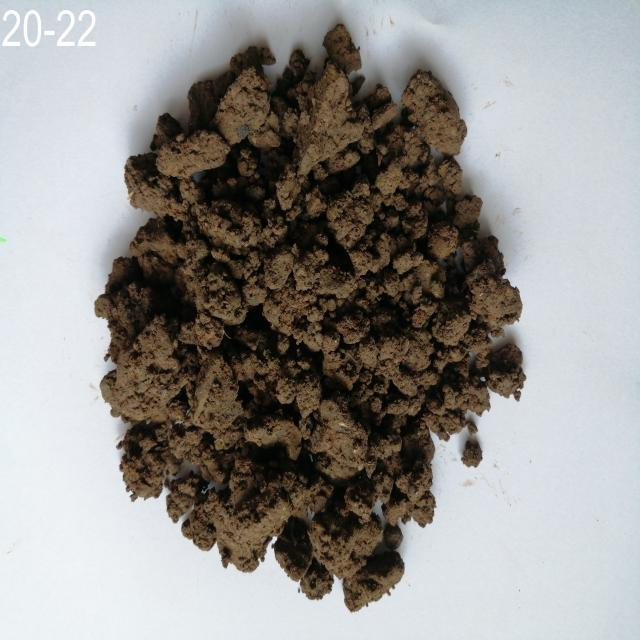soil: (168, 142, 429, 492)
